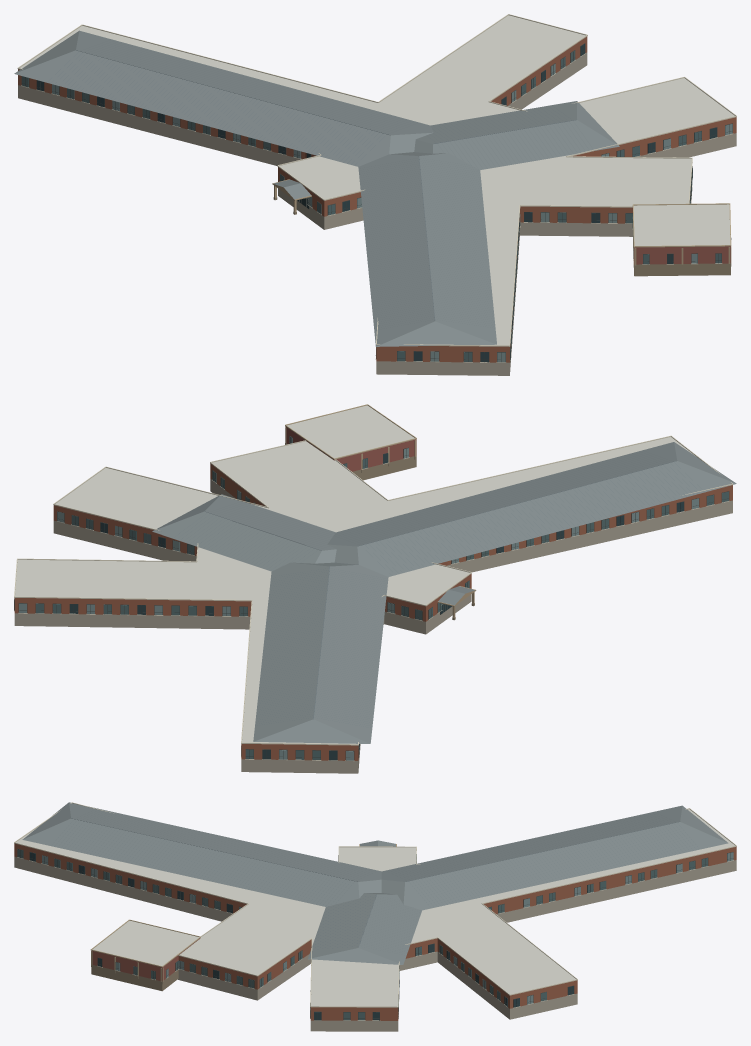
Rendered from della-davidson.glb.
The picture shows the model from 3 angles, top to bottom: view 1: azimuth 30°, elevation 25°; view 2: azimuth 150°, elevation 25°; view 3: azimuth 270°, elevation 25°; orthographic projection. The views are drawn at different scales.
Visible parts, largest first — view 1: 247507070 | della-entry 1, 247507070 | Roof, 247507070 | Shell and foundation, 247507070 | Facades, Southeast classroom extension | Shell and foundation; view 2: 247507070 | della-entry 1, 247507070 | Roof, 247507070 | Shell and foundation, 247507070 | Facades, Southeast classroom extension | Shell and foundation; view 3: 247507070 | della-entry 1, 247507070 | Roof, 247507070 | Shell and foundation, 247507070 | Facades, Southeast classroom extension | Shell and foundation, Southeast classroom extension | Facades.
Part boxes in pixels (box(x1,y1,x2,y2)): 247507070 | della-entry 1: box(14, 30, 732, 362); 247507070 | Roof: box(20, 15, 734, 345); 247507070 | Shell and foundation: box(18, 36, 736, 375); 247507070 | Facades: box(17, 14, 736, 362); Southeast classroom extension | Shell and foundation: box(634, 246, 730, 264); 247507070 | della-entry 1: box(14, 427, 736, 760); 247507070 | Roof: box(15, 405, 704, 744); 247507070 | Shell and foundation: box(14, 463, 732, 773); 247507070 | Facades: box(14, 435, 733, 761); Southeast classroom extension | Shell and foundation: box(285, 426, 416, 471); 247507070 | della-entry 1: box(17, 802, 733, 1020); 247507070 | Roof: box(16, 809, 735, 1006); 247507070 | Shell and foundation: box(14, 843, 736, 1031); 247507070 | Facades: box(14, 802, 736, 1020); Southeast classroom extension | Shell and foundation: box(91, 938, 200, 981); Southeast classroom extension | Facades: box(90, 919, 200, 967).
Bounding box in the file's own units: 121 × 9 × 180.
